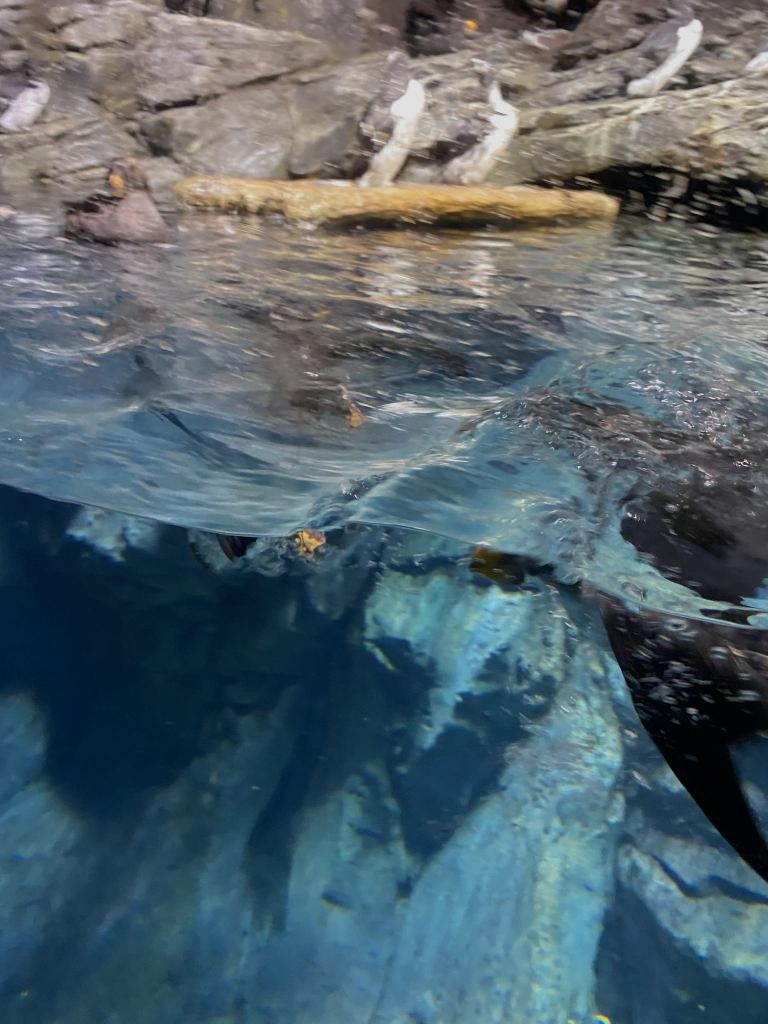puffin: (68, 155, 172, 249)
